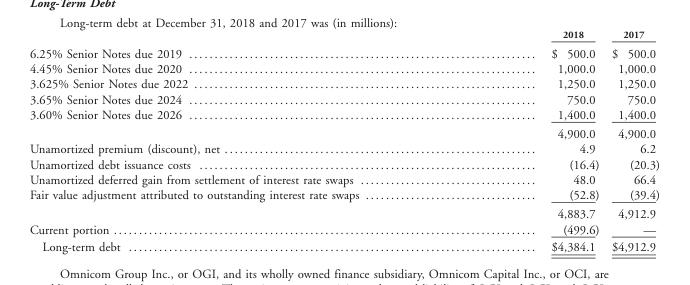table: (28, 28, 659, 253)
table column: (28, 28, 454, 253), (454, 28, 604, 253), (604, 28, 659, 253)
table column header: (28, 28, 659, 42)
table row: (28, 42, 659, 60), (28, 186, 659, 204), (28, 106, 659, 123), (28, 123, 659, 140), (28, 204, 659, 221), (28, 75, 659, 91), (28, 140, 659, 156), (28, 221, 659, 237), (28, 237, 659, 253), (28, 60, 659, 75), (28, 91, 659, 106), (28, 156, 659, 171), (28, 171, 659, 186), (28, 28, 659, 42)
